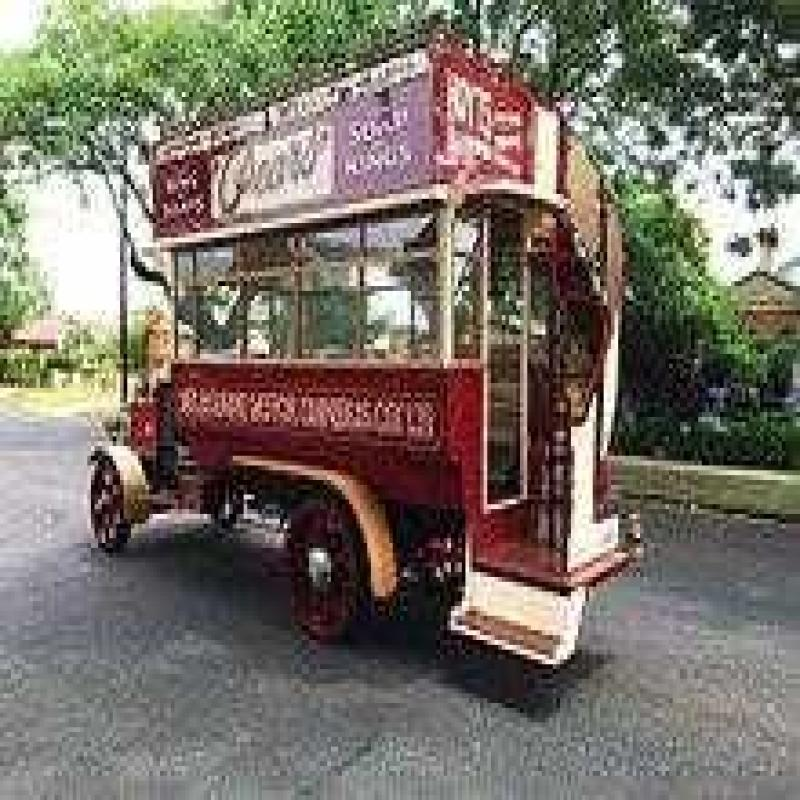bus: (117, 73, 631, 693)
